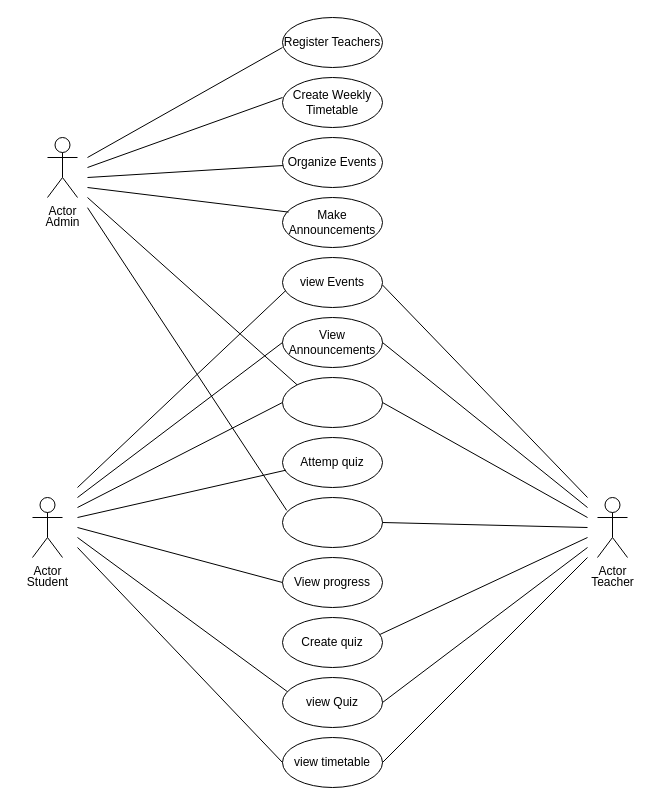
This 664x805 diagram has some shape labels left out. Each missing label, with the centre of its shape:
"Login and Logout" goes at [332,402].
"View result" goes at [332,522].
